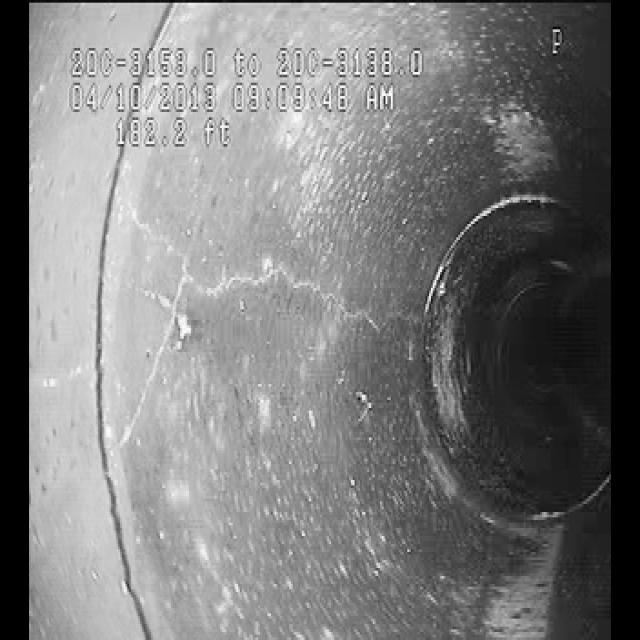Crack: (155, 225, 401, 358)
